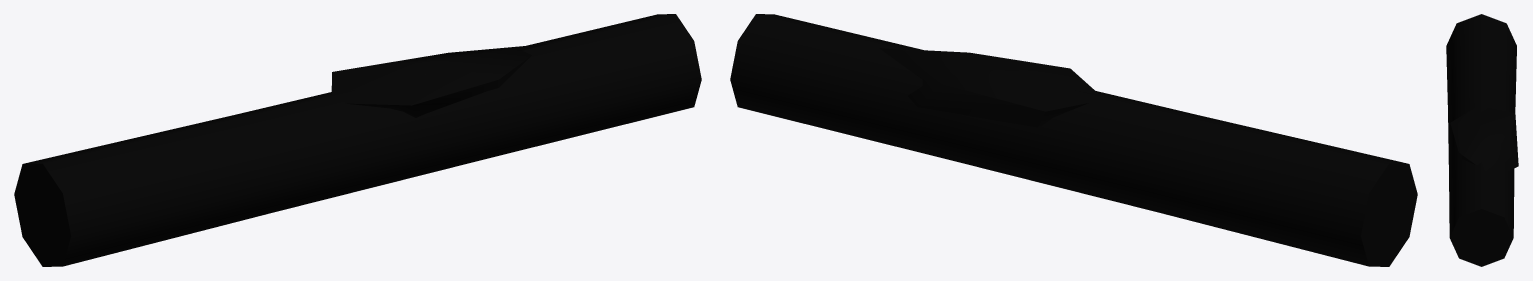
File: SM_log_mossy.fbx
The picture shows the model from 3 angles, left to right: view 1: azimuth 30°, elevation 25°; view 2: azimuth 150°, elevation 25°; view 3: azimuth 270°, elevation 25°; orthographic projection. The views are drawn at different scales.
Parts seen in each view (by area): view 1: log_mossy; view 2: log_mossy; view 3: log_mossy.
Boxes of the visible parts, left/top/right/bottom form: log_mossy: left=14, top=14, right=701, bottom=266; log_mossy: left=730, top=14, right=1417, bottom=266; log_mossy: left=1446, top=14, right=1518, bottom=266.
Size of the model in its own units: 3.5 by 0.5841 by 0.5584.
